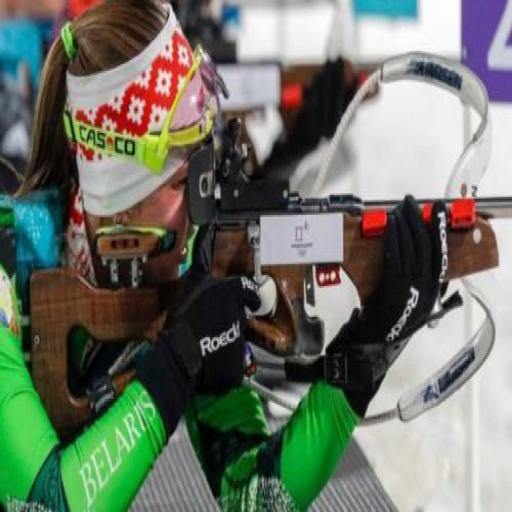shooting: (2, 0, 499, 510)
